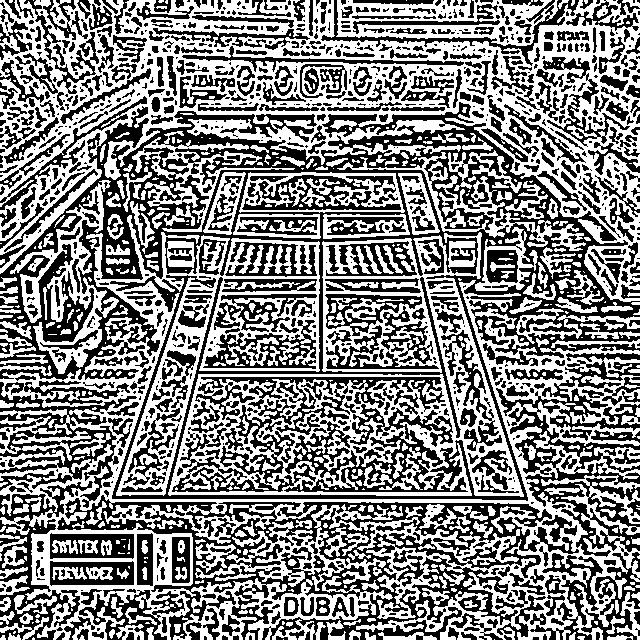left side: (113, 172, 248, 498), (397, 172, 526, 499)
player: (451, 372, 489, 463), (304, 126, 328, 173)
